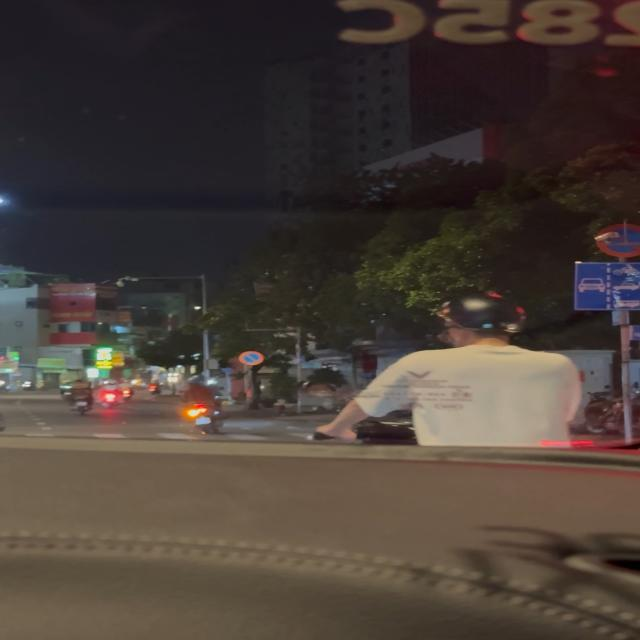Bien bao cam do xe: (236, 350, 267, 368)
